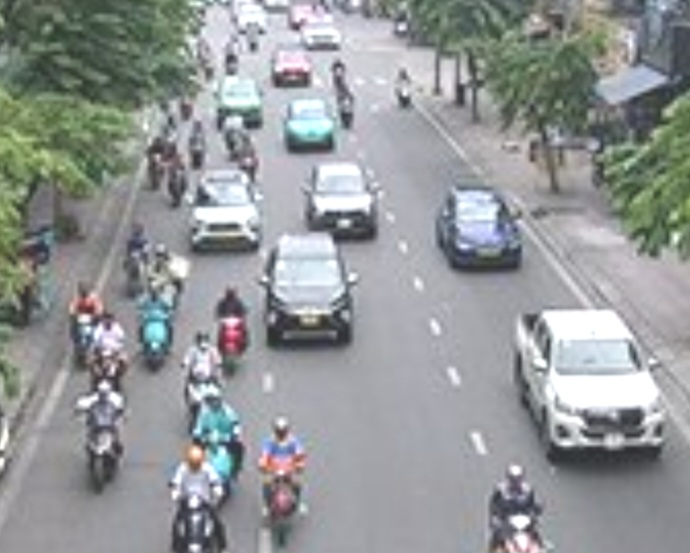car: (512, 307, 667, 454), (264, 234, 352, 345), (439, 181, 523, 273), (190, 168, 261, 249), (305, 161, 378, 238), (287, 98, 333, 154), (219, 73, 263, 129), (271, 47, 314, 88)
